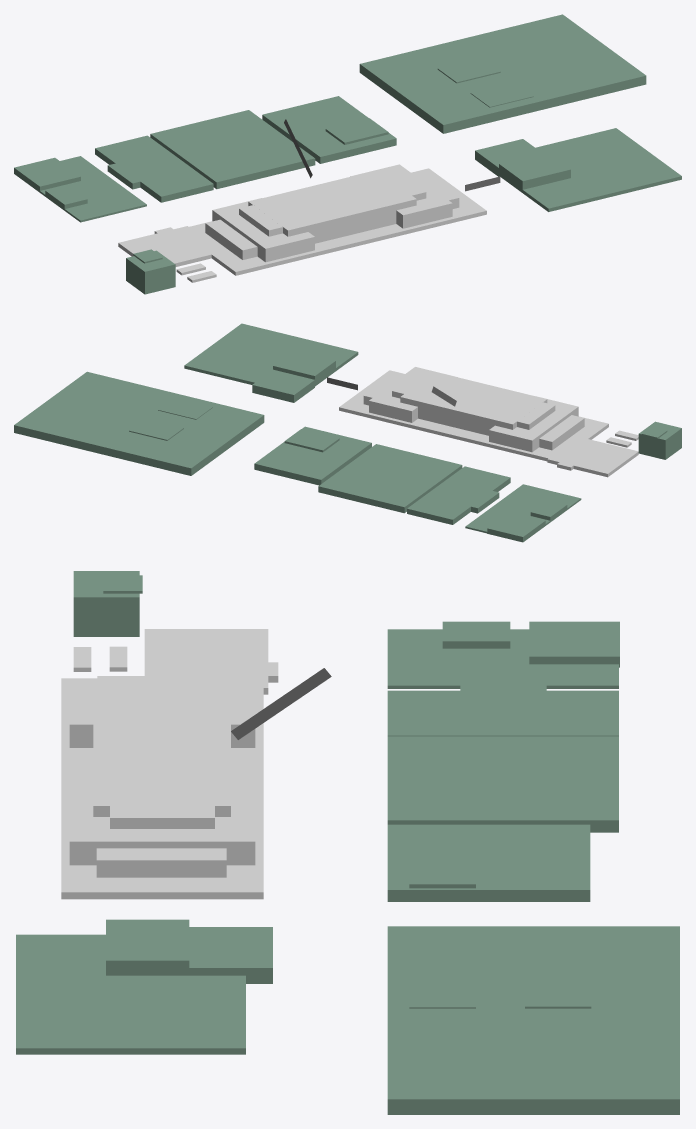
Rendered from AnimatedBuilding.glb.
3 renders of one model, top to bottom at view 1: azimuth 30°, elevation 25°; view 2: azimuth 150°, elevation 25°; view 3: azimuth 270°, elevation 25°, orthographic. The views are drawn at different scales.
Parts seen in each view (by area): view 1: pCube23, group4_pasted__pCube1, pCube33, pCube36, group4_pasted__pCube1001; view 2: pCube23, group4_pasted__pCube1, pCube33, pCube36, group4_pasted__pCube1001, pCube11_group4; view 3: pCube23, pCube33, group4_pasted__pCube1, pCube36, group4_pasted__pCube1001, pCube32001.
Part boxes in pixels (x1,y1,x2,y2): pCube23: (14,96,396,222); group4_pasted__pCube1: (118,164,486,282); pCube33: (359,14,646,133); pCube36: (475,128,681,211); group4_pasted__pCube1001: (126,249,175,294); pCube23: (254,426,581,542); group4_pasted__pCube1: (339,367,638,477); pCube33: (14,371,264,475); pCube36: (184,323,358,402); group4_pasted__pCube1001: (638,421,681,459); pCube11_group4: (418,408,493,434); pCube23: (387,621,619,901); pCube33: (387,926,679,1114); group4_pasted__pCube1: (61,629,278,899); pCube36: (16,919,272,1054); group4_pasted__pCube1001: (73,571,142,636); pCube32001: (231,668,331,739).
Bounding box in the file's own units: 9.42 × 1.1 × 5.24.
